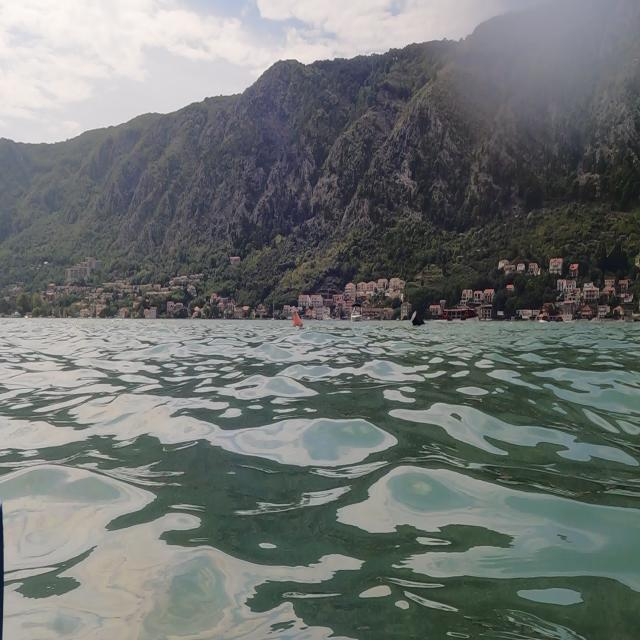buoy: (407, 307, 430, 332), (288, 306, 310, 332)
